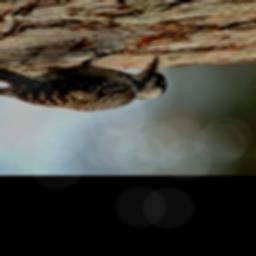Woodpecker: (0, 41, 175, 121)
